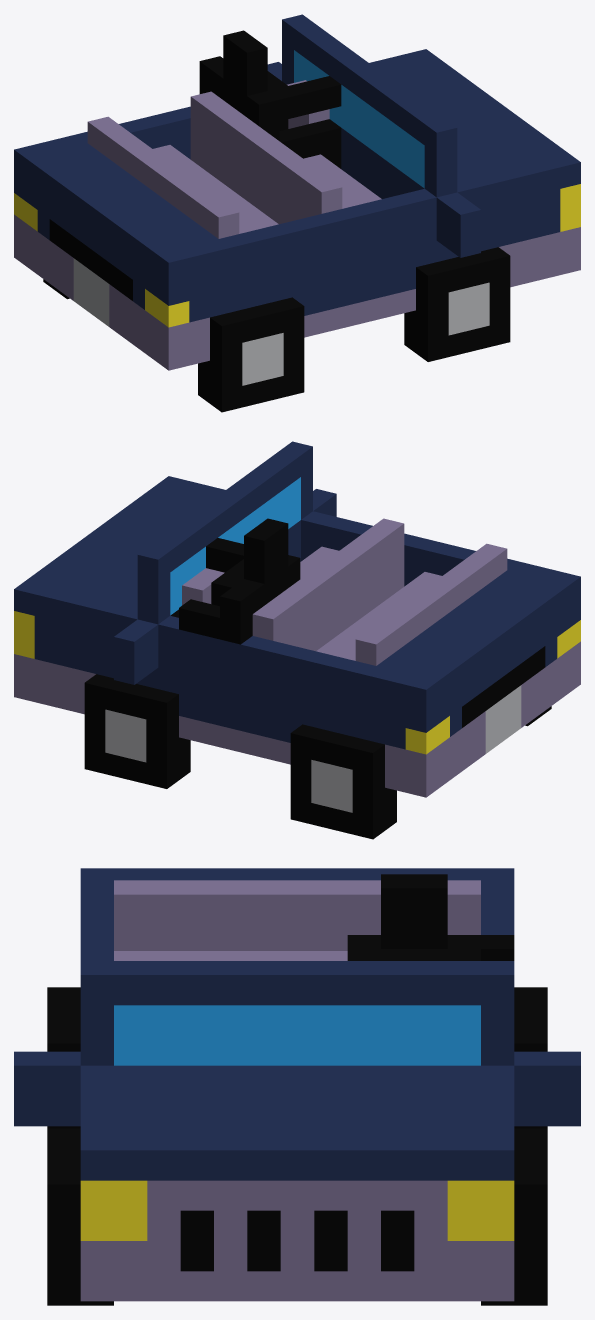
Rendered from convertible_c.obj.
3 renders of one model, top to bottom at view 1: azimuth 30°, elevation 25°; view 2: azimuth 150°, elevation 25°; view 3: azimuth 270°, elevation 25°, orthographic. The views are drawn at different scales.
Bounding box in the file's own units: 2 × 1.1 × 1.7.
Materials: 1 (1 with a texture image).
